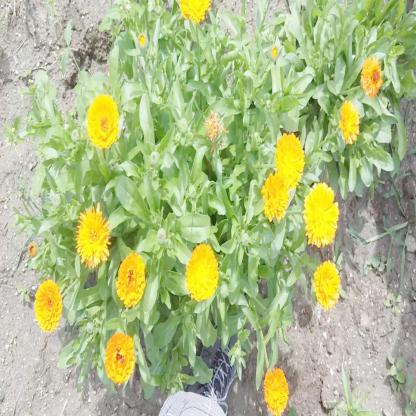marigold: (76, 206, 110, 266), (306, 182, 338, 243), (262, 162, 293, 221), (185, 244, 217, 300), (103, 332, 135, 385), (115, 254, 146, 307), (87, 95, 118, 147), (274, 134, 305, 185), (34, 281, 60, 332), (314, 260, 340, 309), (264, 366, 288, 409), (338, 99, 361, 139), (360, 58, 382, 96)
